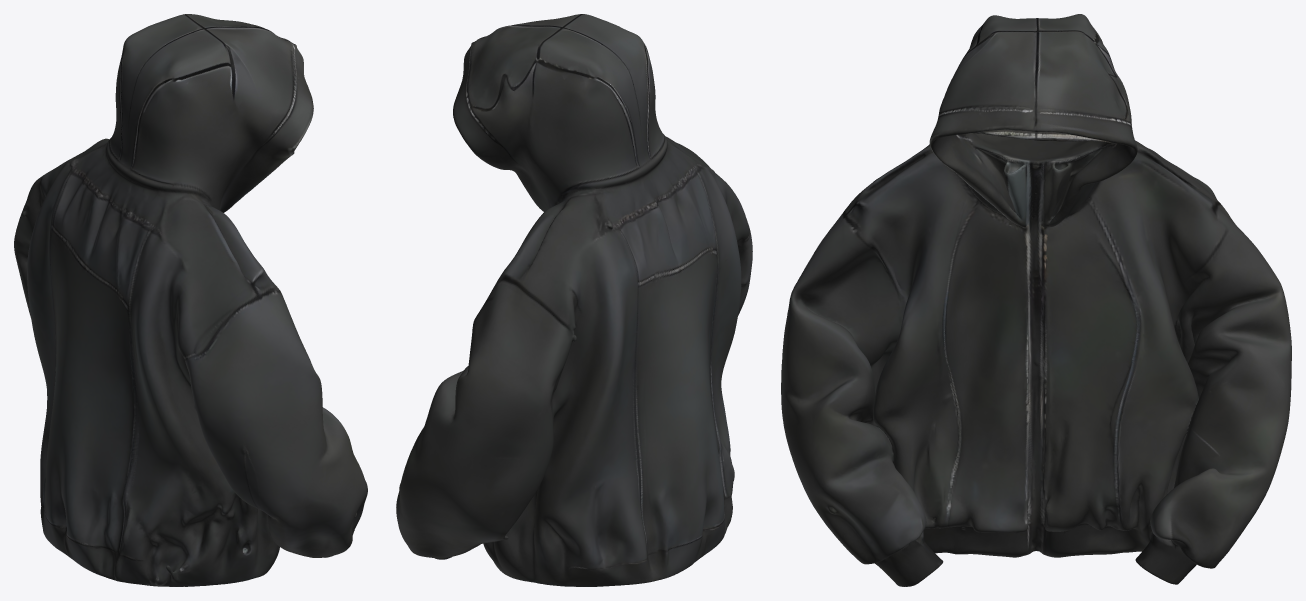
File: tripo_pbr_model_c53af58f-a78f-_ccd14248_opt.glb
3 views of the same model, side by side, from view 1: azimuth 30°, elevation 25°; view 2: azimuth 150°, elevation 25°; view 3: azimuth 270°, elevation 25° (orthographic). The views are drawn at different scales.
Visible parts, largest first — view 1: tripo_node_c53af58f-a78f-41c4-9412-eba90bbae978; view 2: tripo_node_c53af58f-a78f-41c4-9412-eba90bbae978; view 3: tripo_node_c53af58f-a78f-41c4-9412-eba90bbae978.
Boxes of the visible parts, x1=… form: tripo_node_c53af58f-a78f-41c4-9412-eba90bbae978: x1=14, y1=14, x2=367, y2=586; tripo_node_c53af58f-a78f-41c4-9412-eba90bbae978: x1=396, y1=14, x2=752, y2=586; tripo_node_c53af58f-a78f-41c4-9412-eba90bbae978: x1=781, y1=14, x2=1291, y2=586.
Bounding box in the file's own units: 0.5129 × 1 × 0.8859.
Materials: 1 (1 with a texture image).
